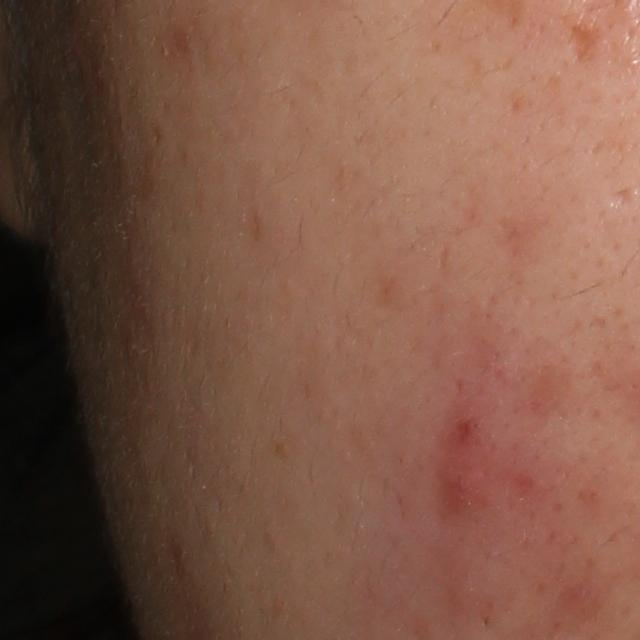atrophic_scar: (568, 20, 603, 61), (607, 186, 635, 212)
